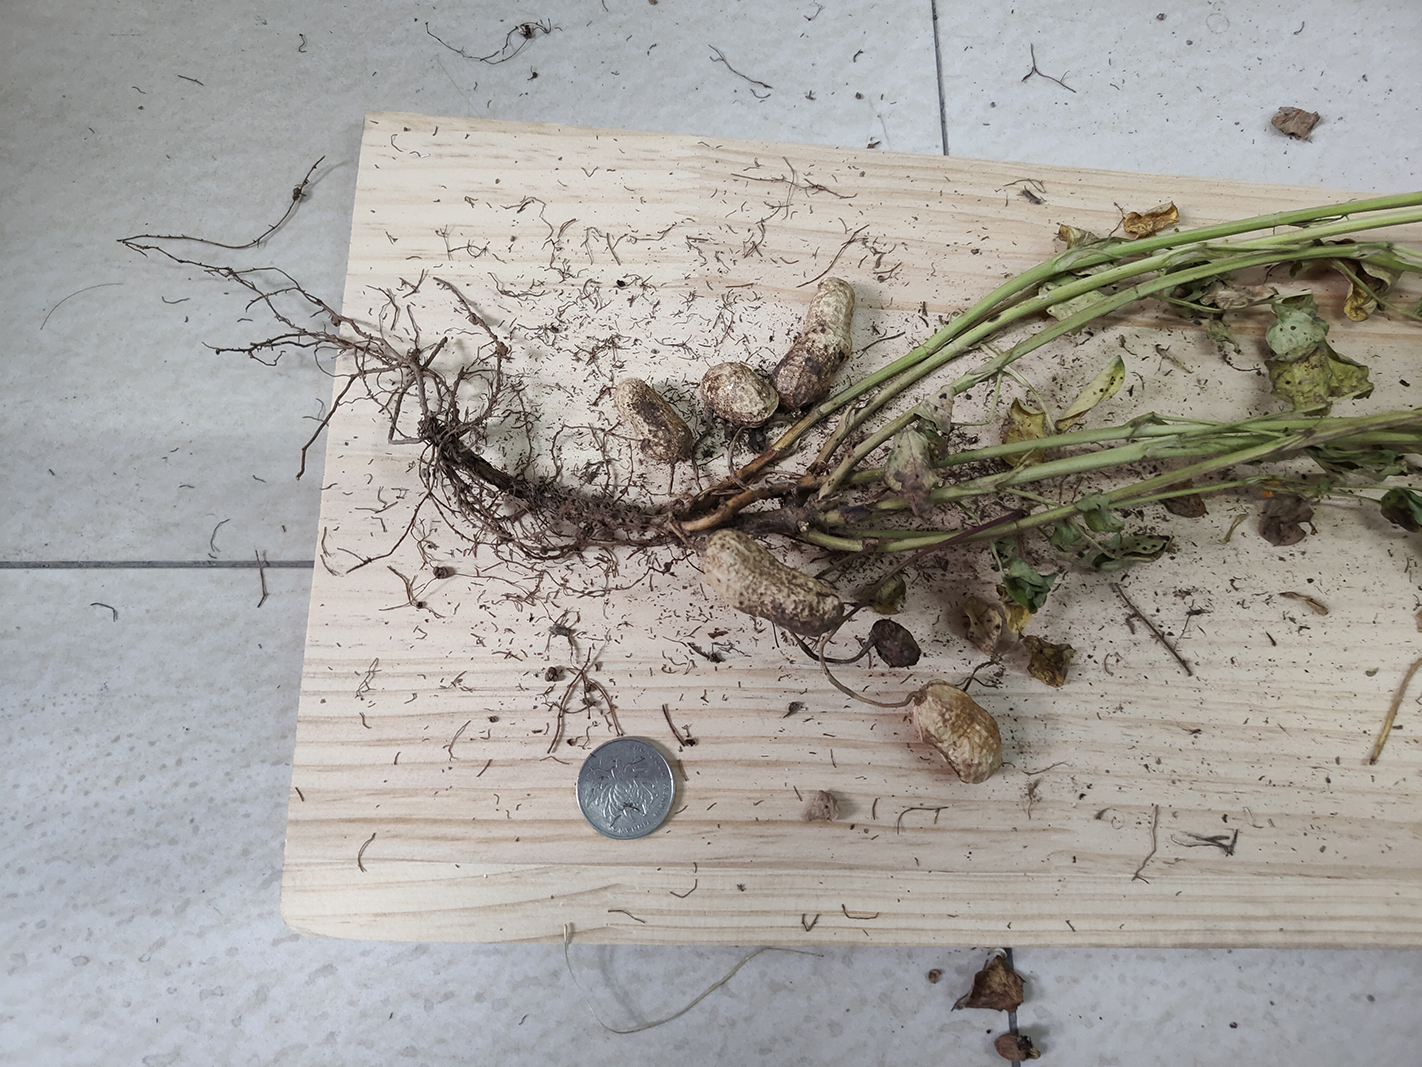h: (704, 528, 844, 635), (775, 277, 856, 412), (912, 681, 1001, 785), (701, 363, 781, 427)
l: (611, 377, 693, 462), (870, 620, 922, 670)
